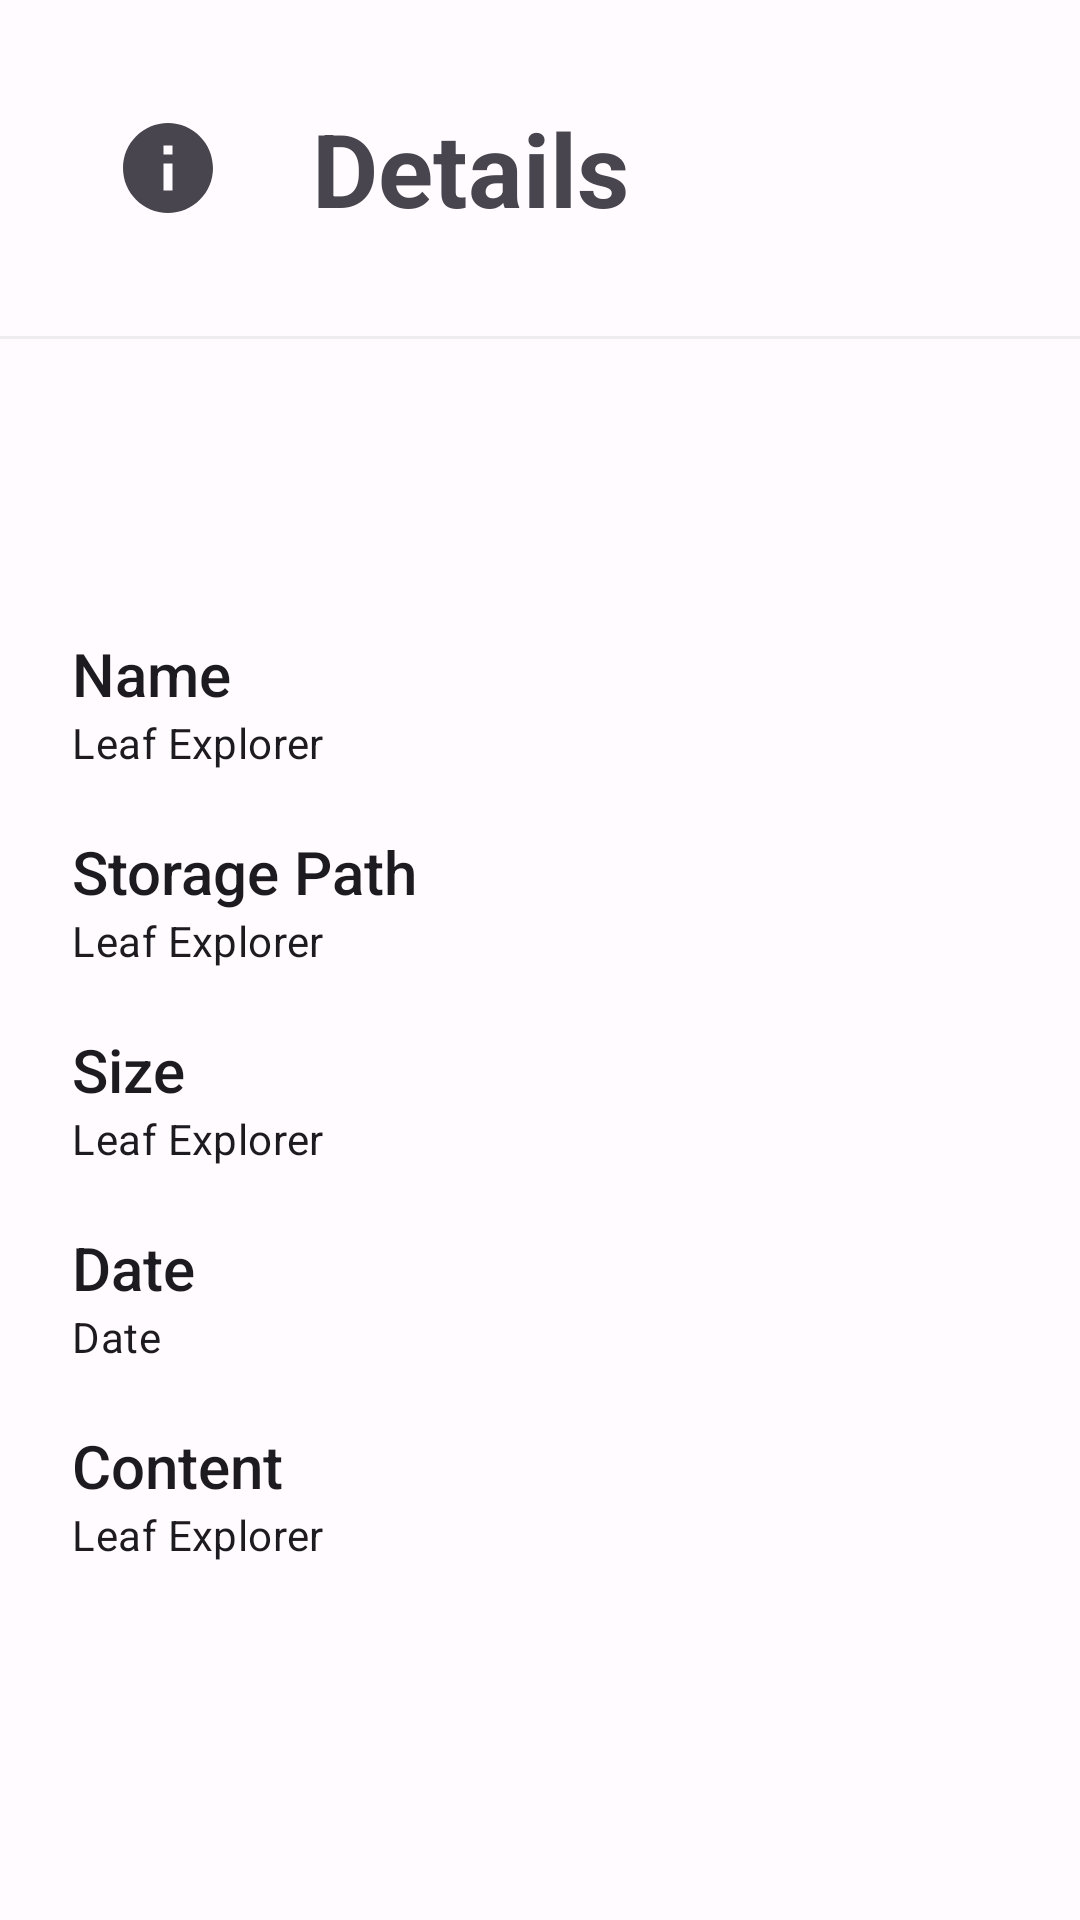

Screen size 1080×1920. Icon name, then its box in pixels as (x1, y1, x2, y2):
info: (123, 123, 213, 213)
